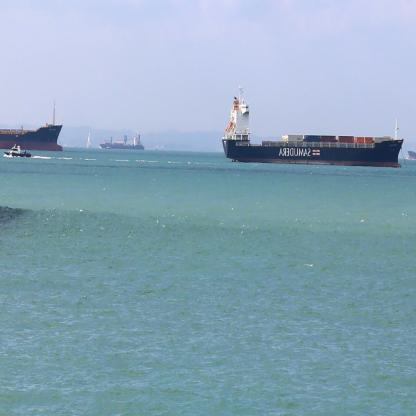Container Ship: (222, 85, 404, 169), (0, 102, 63, 152), (99, 134, 145, 151), (407, 150, 416, 162)
